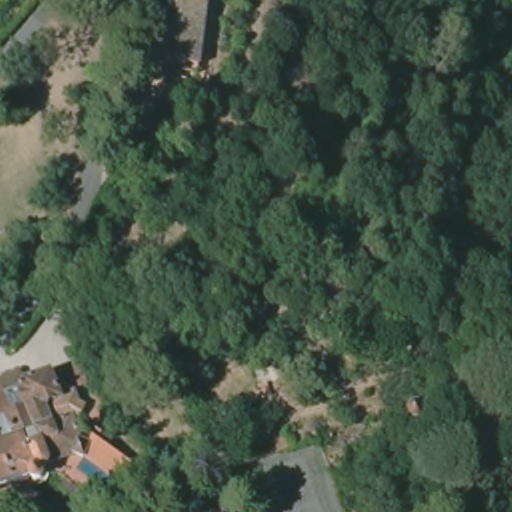pool: (75, 454, 112, 485)
